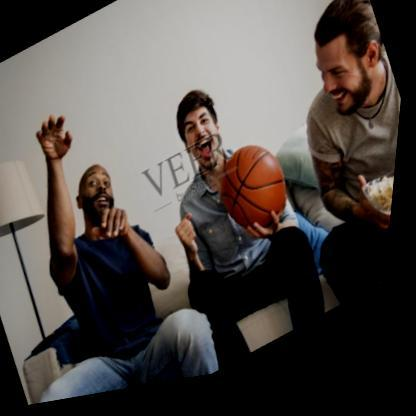basketball: (208, 137, 306, 257)
